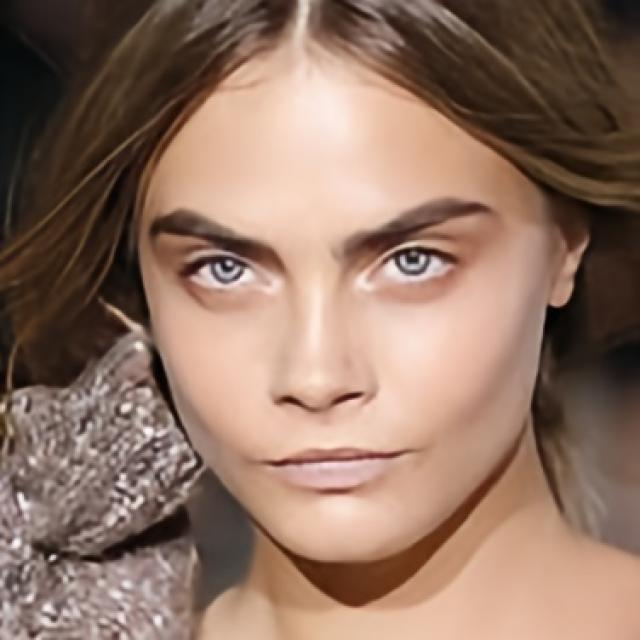content: (138, 44, 552, 564)
